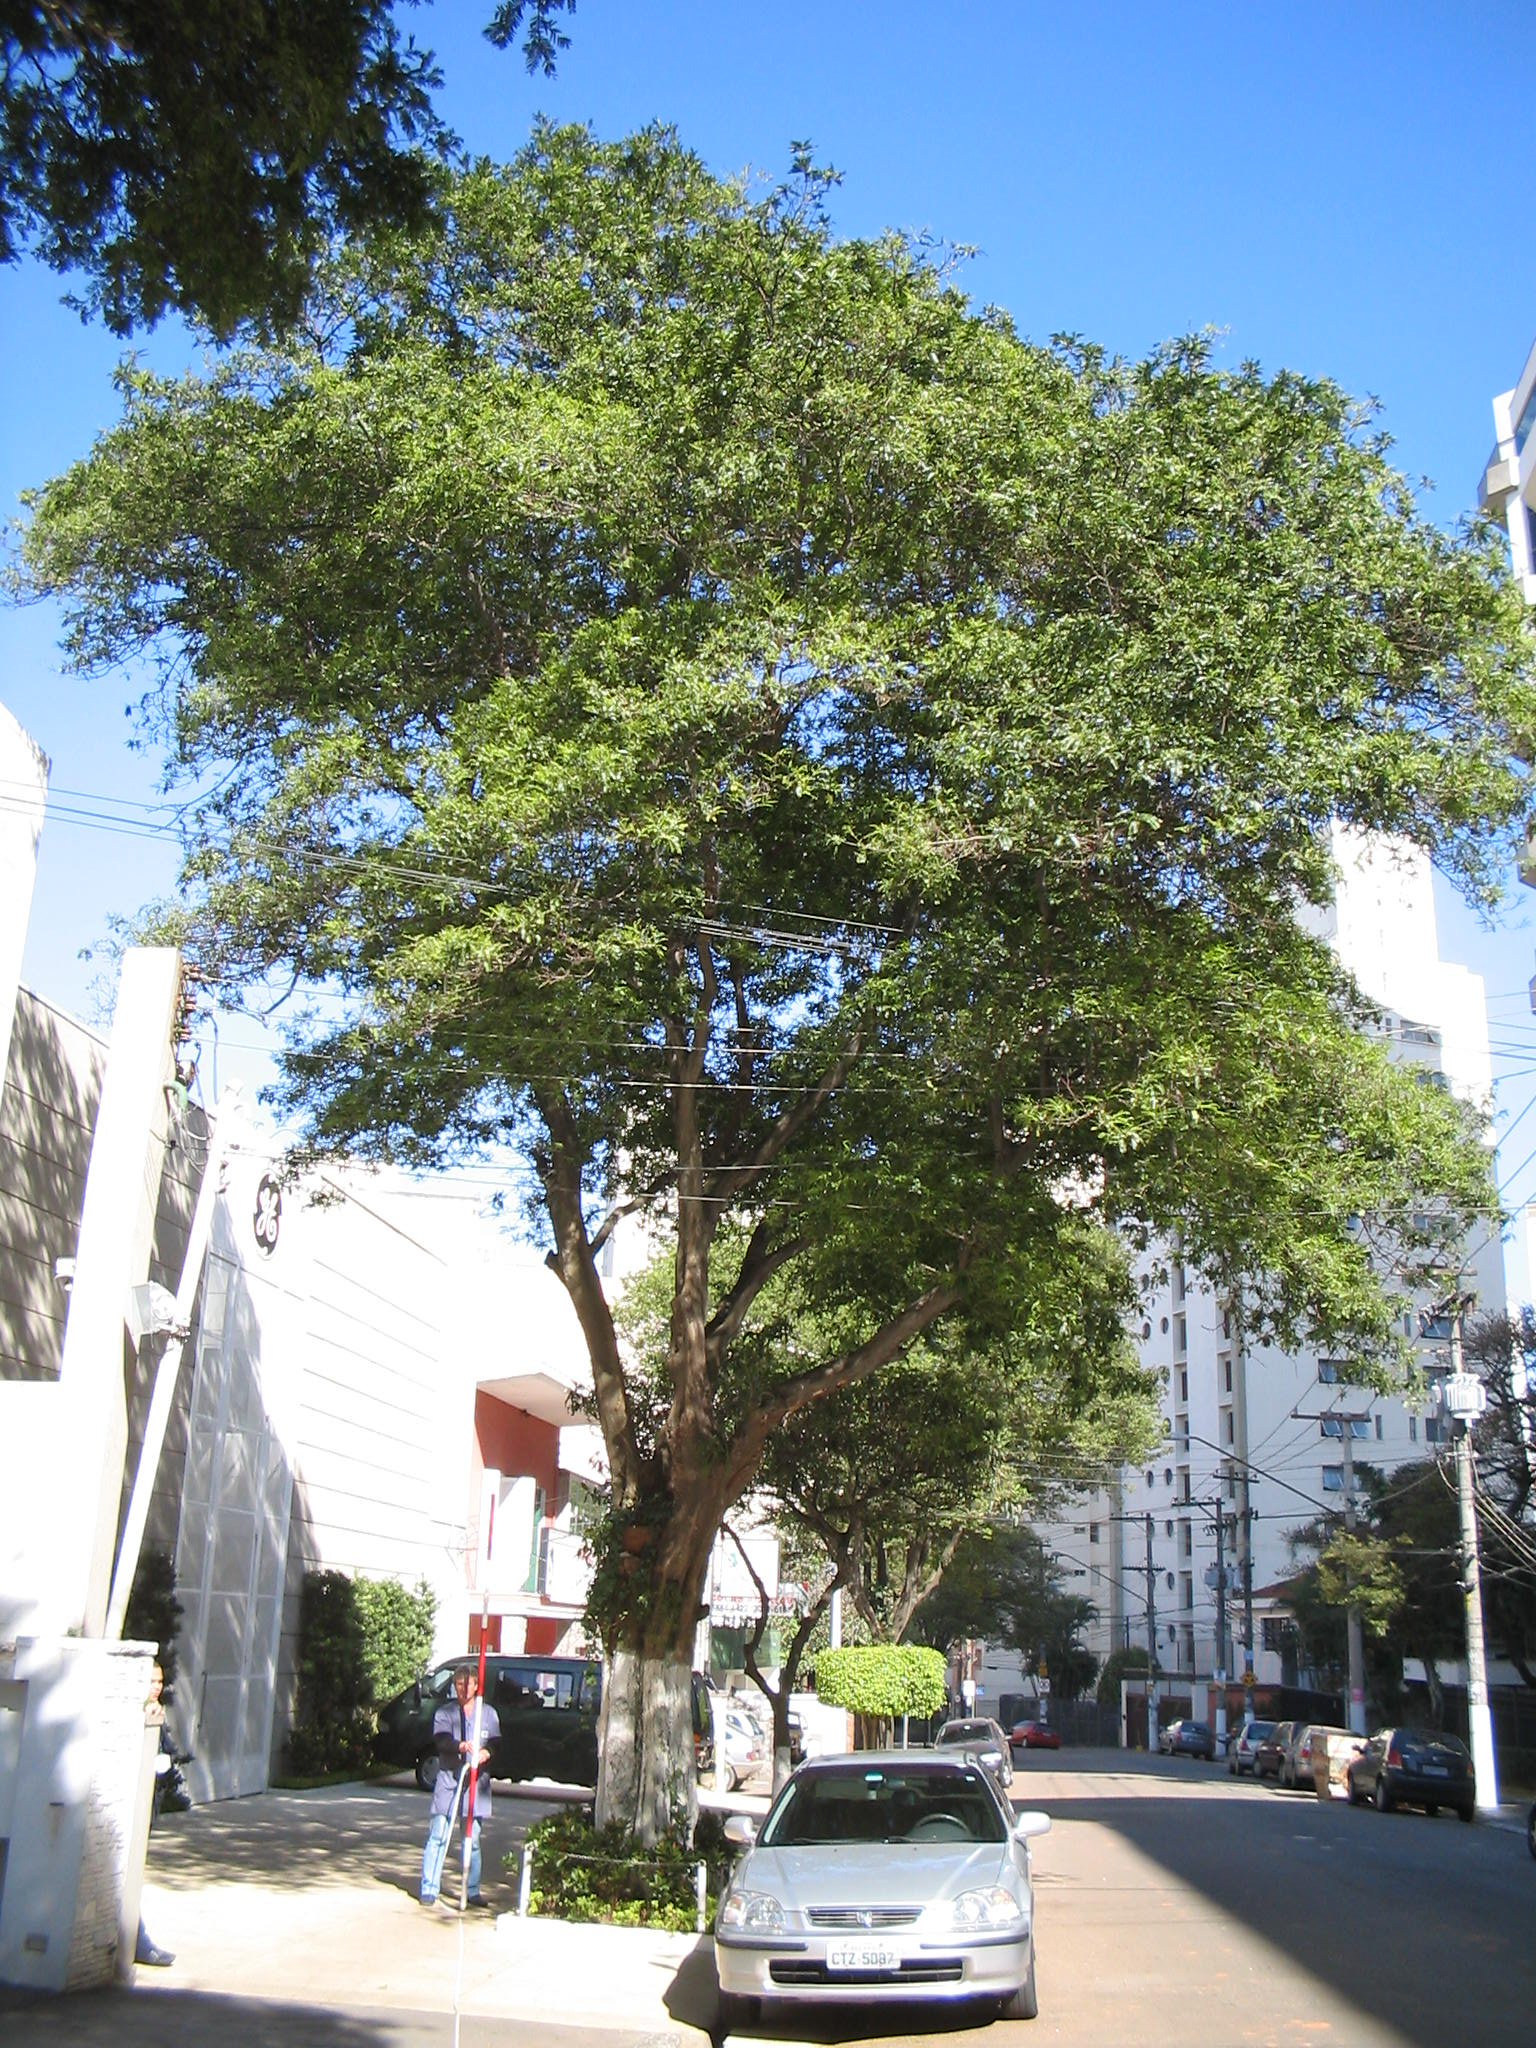crown: (19, 132, 1530, 1403)
stem: (553, 1488, 733, 1901)
stick: (440, 1493, 520, 1919)
tree: (11, 124, 1536, 1906), (753, 1218, 1179, 1750)
